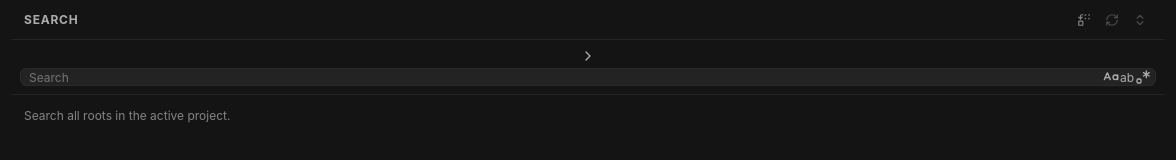
Test: Workspace Search view › projects text-search modes into the native Search request
Type "needle" into the search field named "Search text".
click(564, 77); type("needle")  # box [29,69,1099,85]
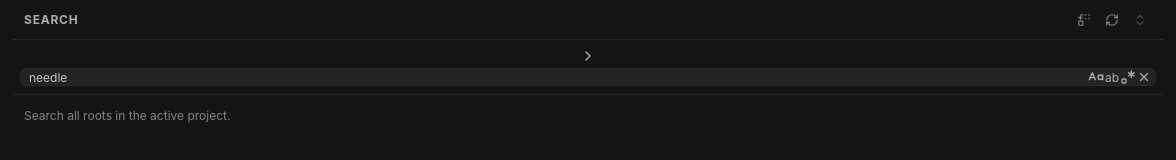
Click the button named "Match case".
click(1096, 77)  # box [1088,69,1104,85]
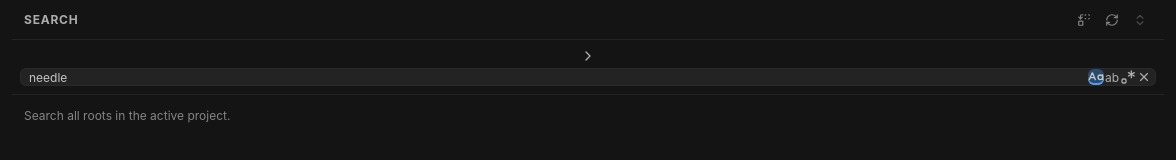
Click the button with aria-label "Match whole word".
click(1112, 77)  # box [1105,70,1119,84]
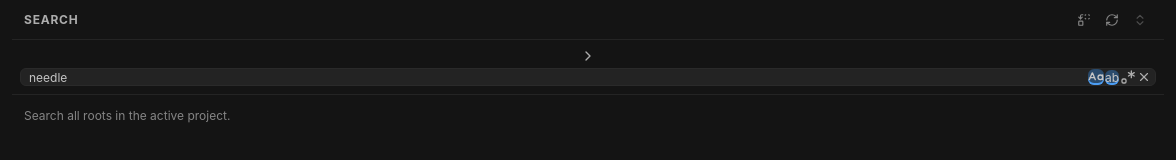
Submit the form named "Search text", box [12,40,1164,95]
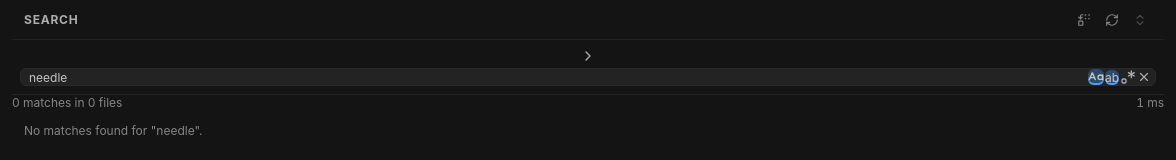
Expected: the text "No matches found for \"needle\"." is shown, [24,123,202,138]
